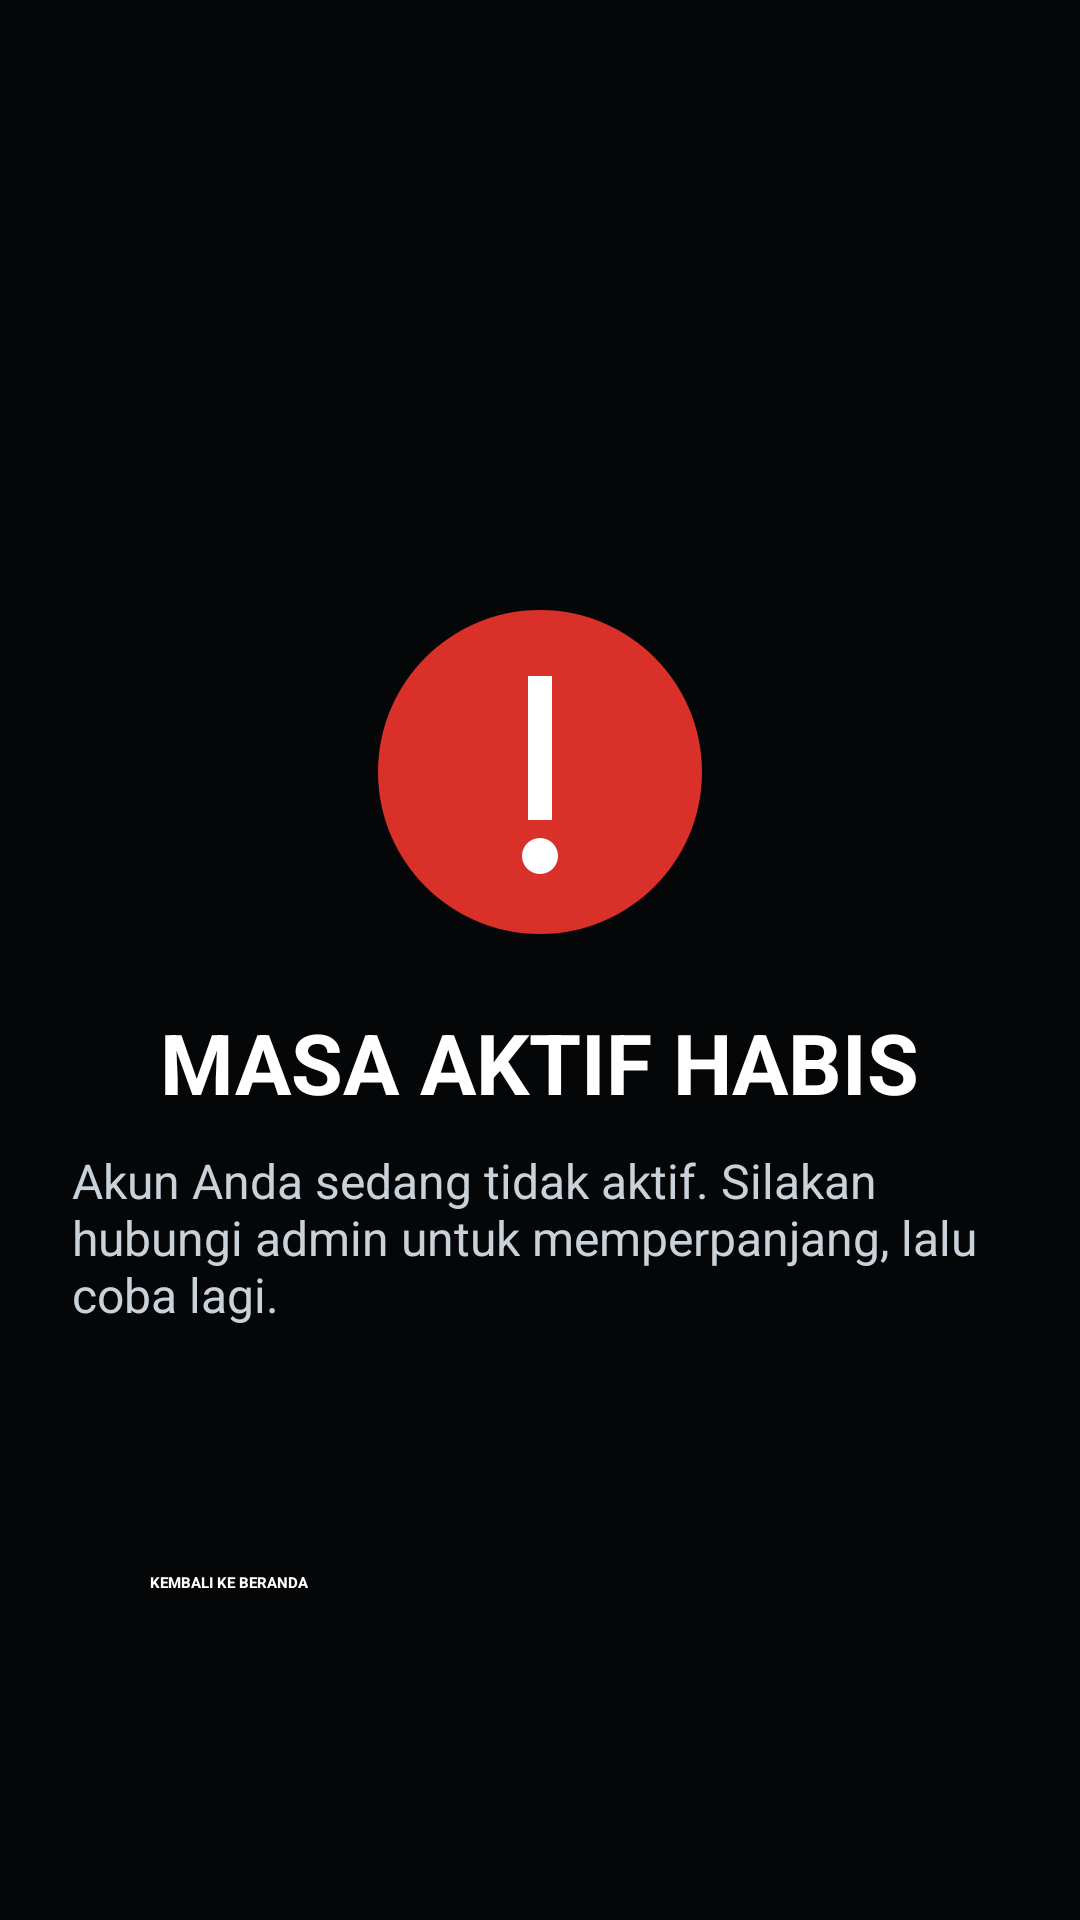

Named icons in this screenshot (1080 x 1920) and their bounding boxes, rect(x1, y1, x2, y2):
Warning: rect(378, 610, 702, 934)
